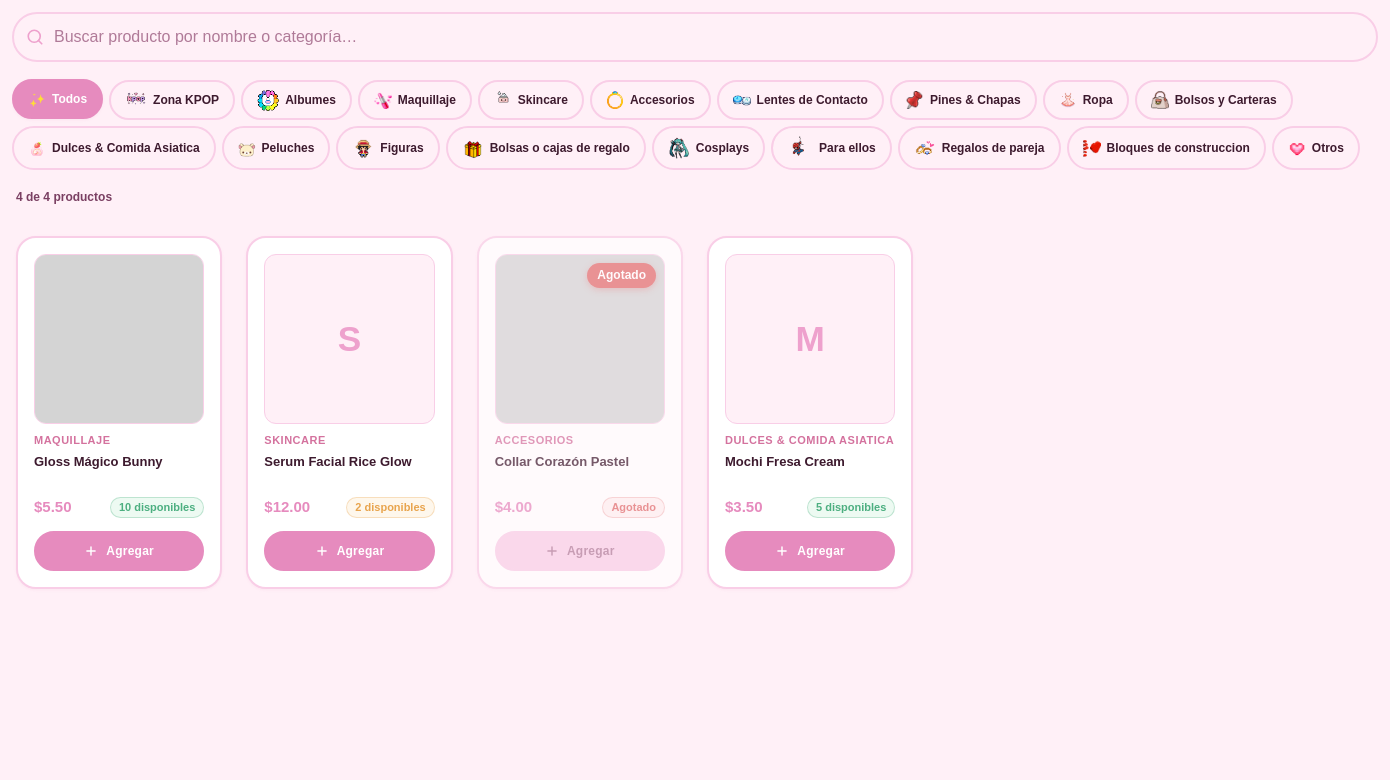
it: AdminProductPicker › permite limpiar la búsqueda con el botón de limpiar
The image size is (1390, 780).
In the search field with placeholder "Buscar producto por nombre o categoría…": (695, 37) [12,12,1378,62], type "Gloss"
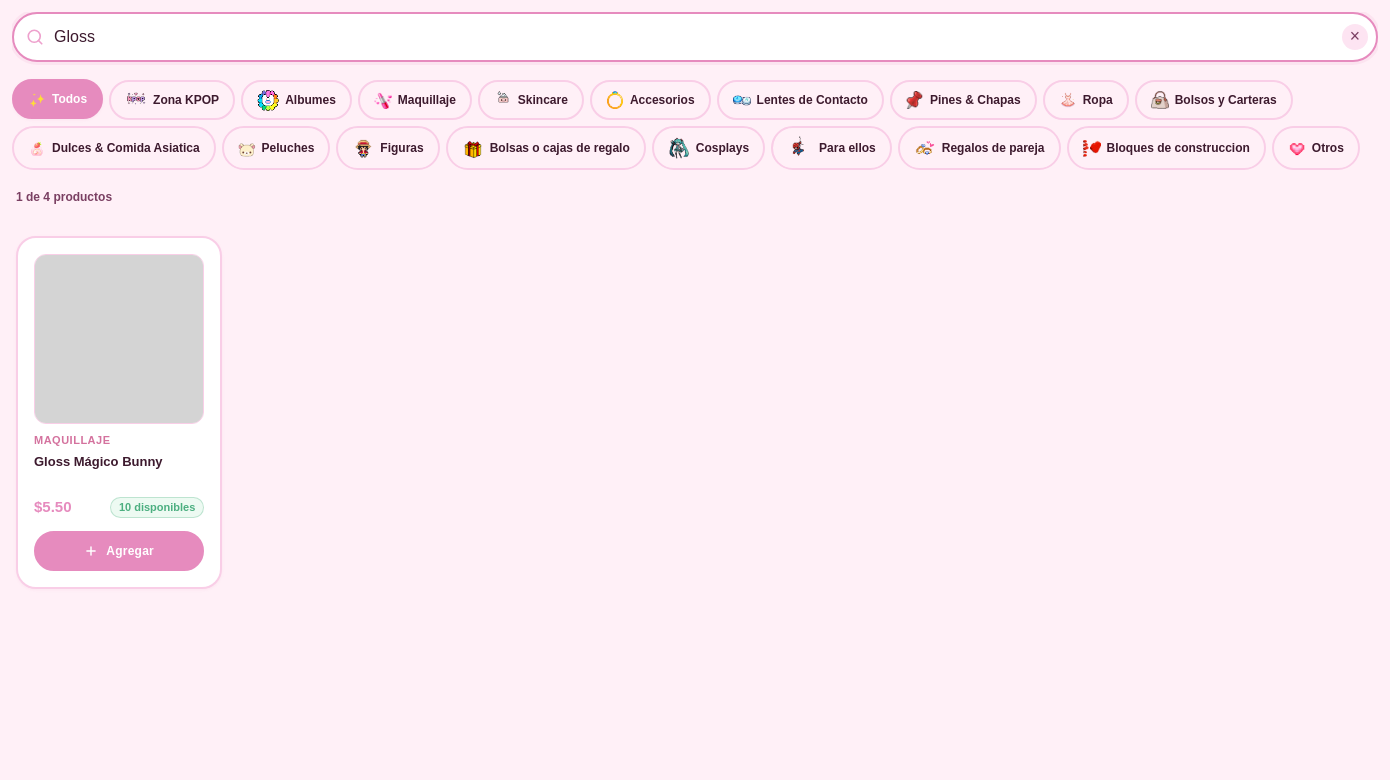
Result: the text "Serum Facial Rice Glow" is gone
Click the button named "Limpiar búsqueda": (1355, 37) [1342,24,1368,50]
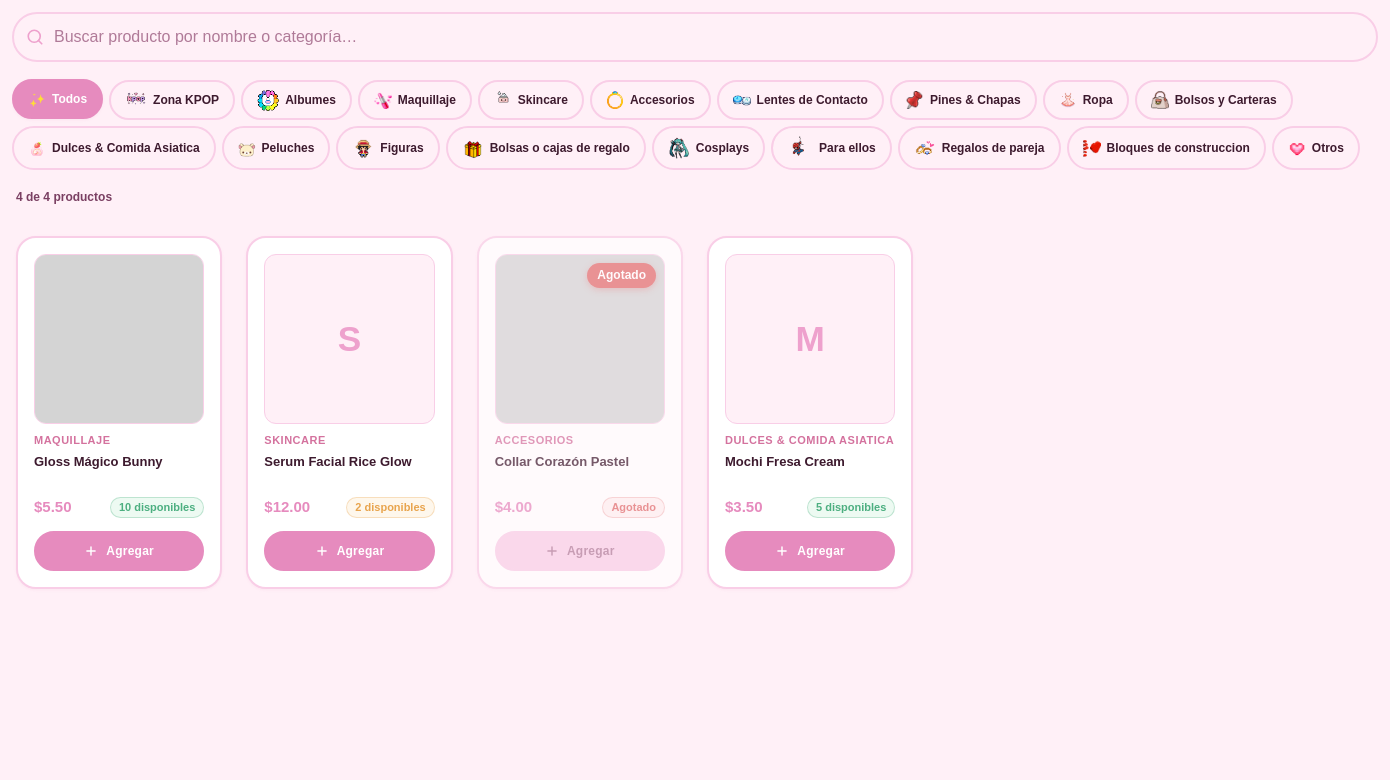
Result: the search field with placeholder "Buscar producto por nombre o categoría…" is empty at [12,12,1378,62]
Result: the text "Serum Facial Rice Glow" is shown at [264,454,412,468]
